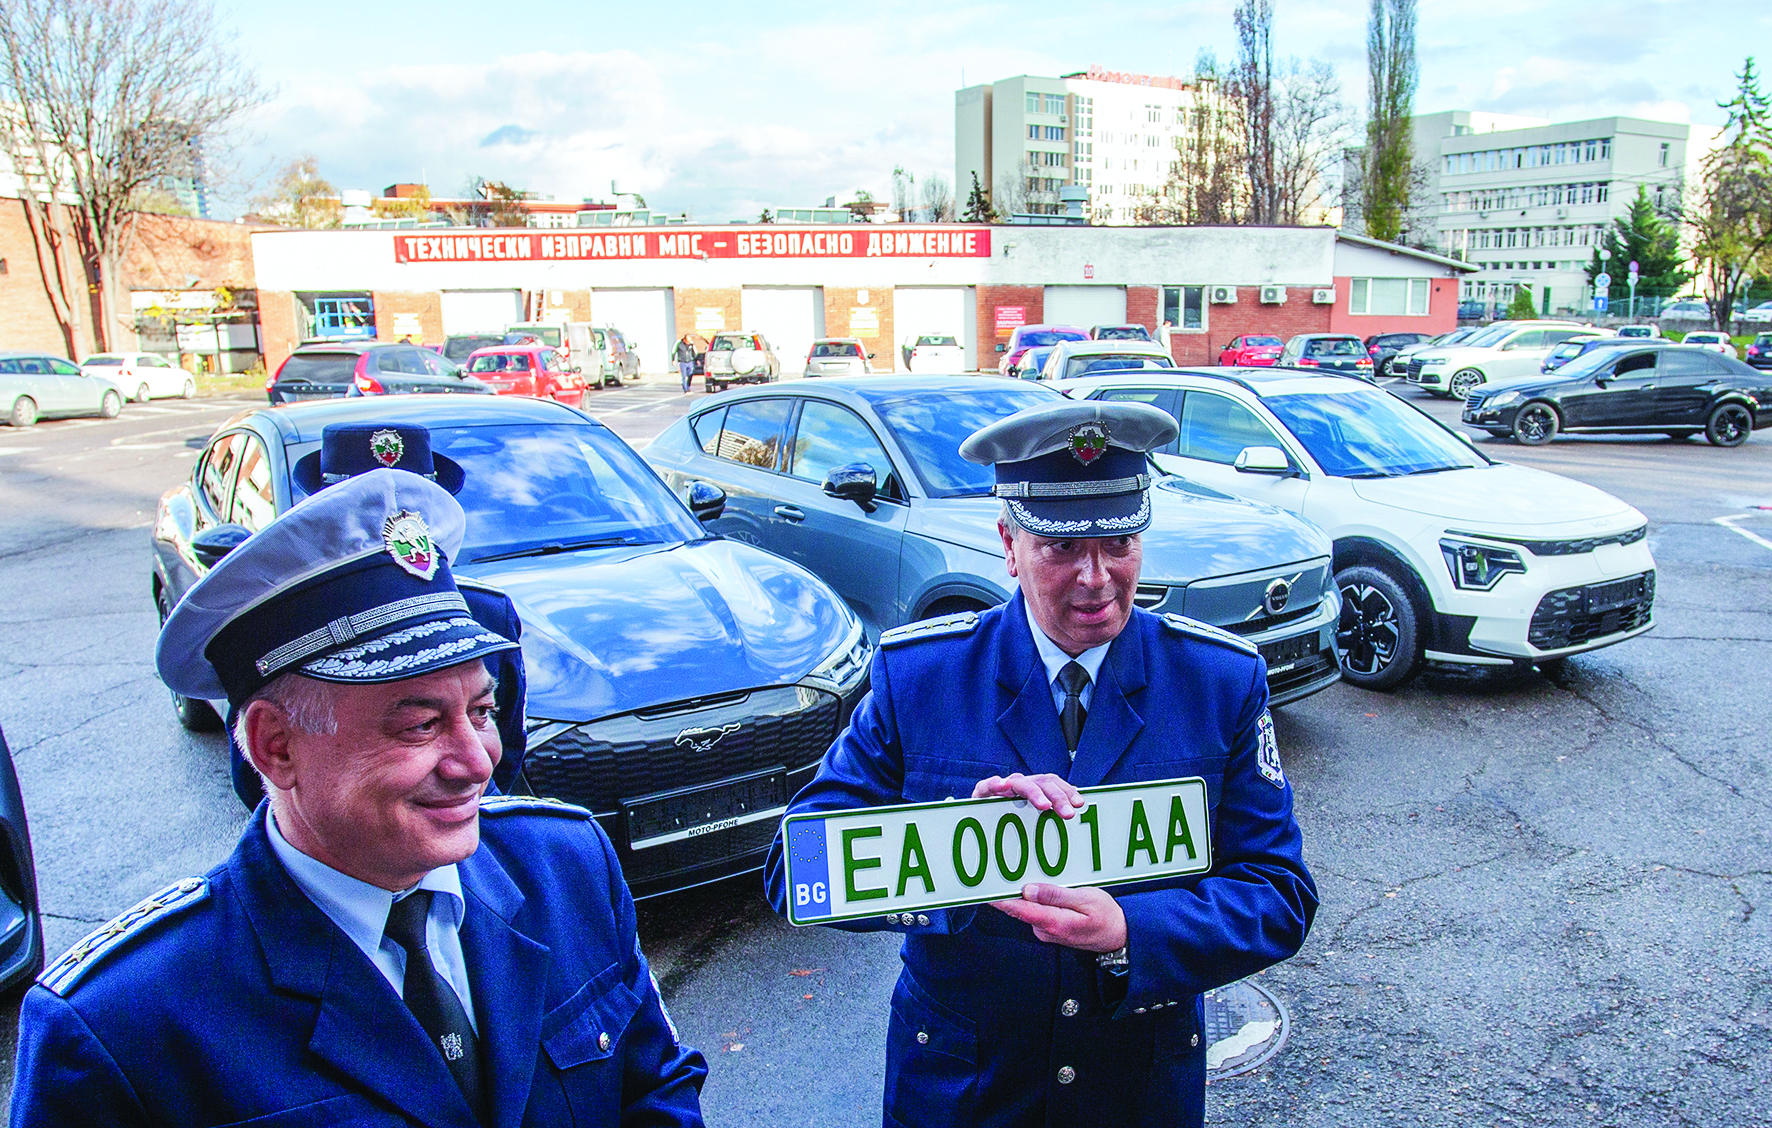registration_plate: (783, 775, 1217, 930)
